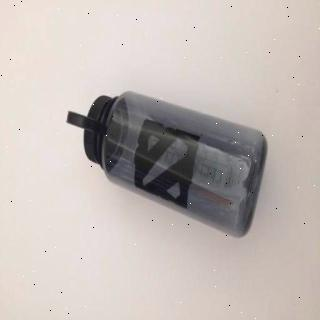Plastic-bottle: (67, 90, 269, 238)
